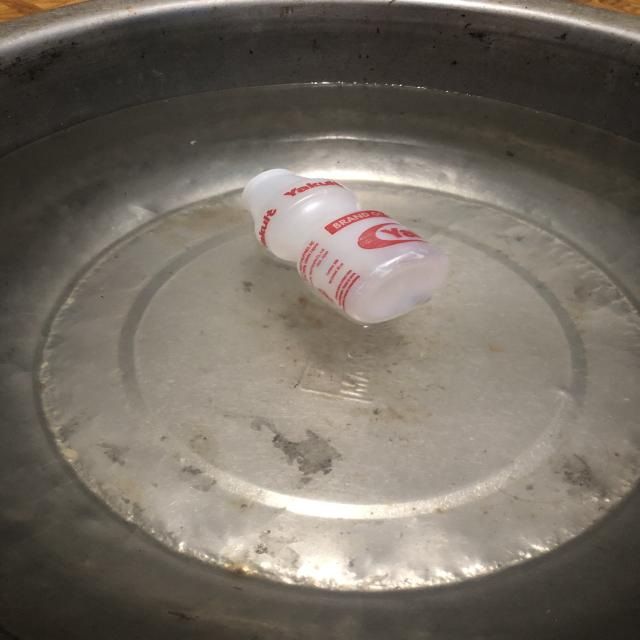Plastic Bottle: (236, 151, 447, 331)
